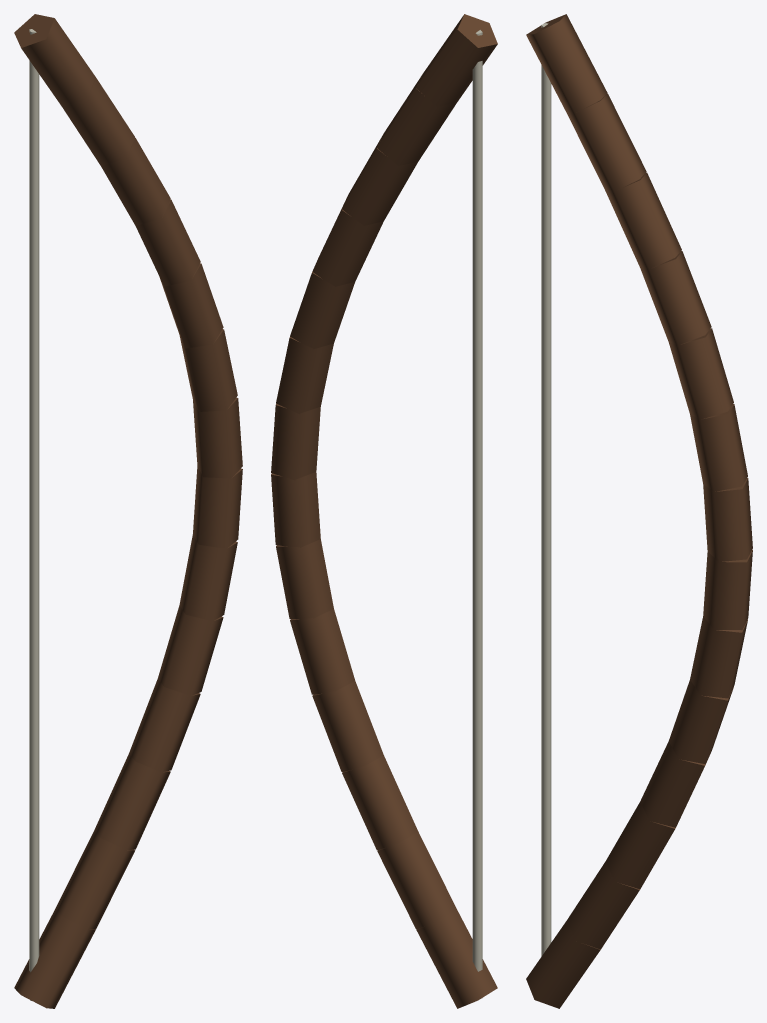
File: custom-prop-bow.glb
The picture shows the model from 3 angles, left to right: view 1: azimuth 30°, elevation 25°; view 2: azimuth 150°, elevation 25°; view 3: azimuth 330°, elevation 25°; orthographic projection.
Visible parts, largest first — view 1: custom-prop-bow; view 2: custom-prop-bow; view 3: custom-prop-bow.
Boxes of the visible parts, left/top/right/bottom form: custom-prop-bow: left=14, top=14, right=242, bottom=1008; custom-prop-bow: left=271, top=14, right=497, bottom=1008; custom-prop-bow: left=526, top=14, right=752, bottom=1008.
Bounding box in the file's own units: 1 × 4.27 × 0.1699.
